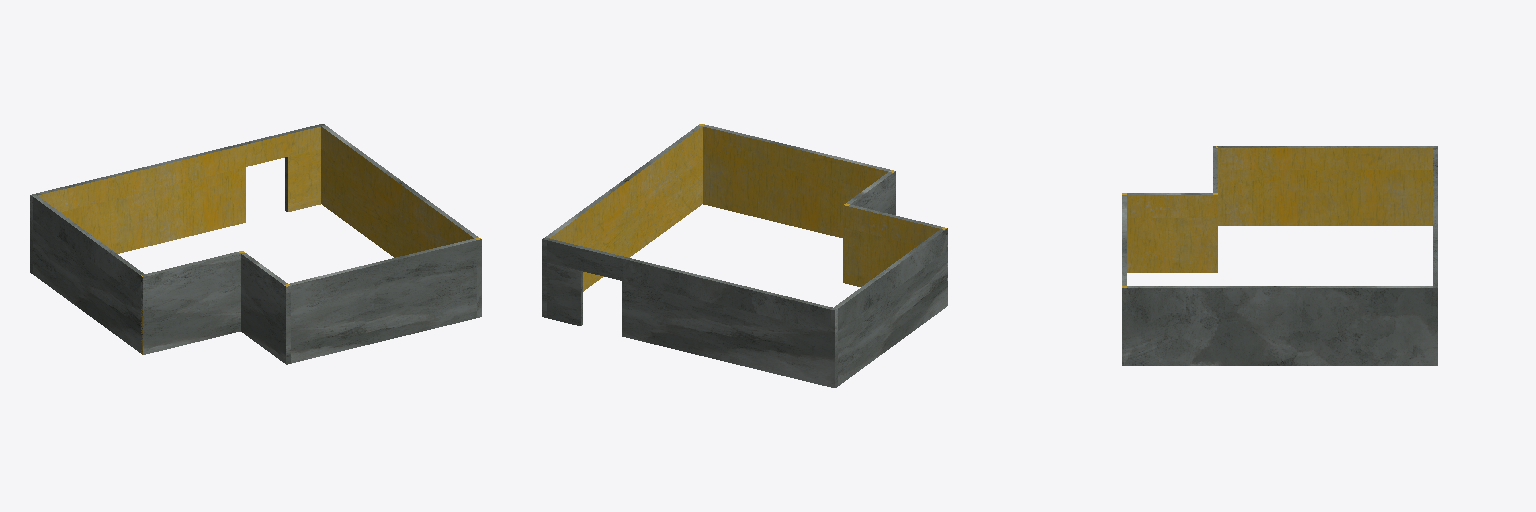
The picture shows the model from 3 angles: view 1: azimuth 30°, elevation 25°; view 2: azimuth 150°, elevation 25°; view 3: azimuth 270°, elevation 25°; orthographic projection.
Parts seen in each view (by area): view 1: Cube; view 2: Cube; view 3: Cube.
Part boxes in pixels (x1,y1,x2,y2): Cube: (30,124,481,364); Cube: (542,124,947,387); Cube: (1122,146,1437,365).
Bounding box in the file's own units: 15.72 × 4 × 14.72.
1 materials, 1 textured.